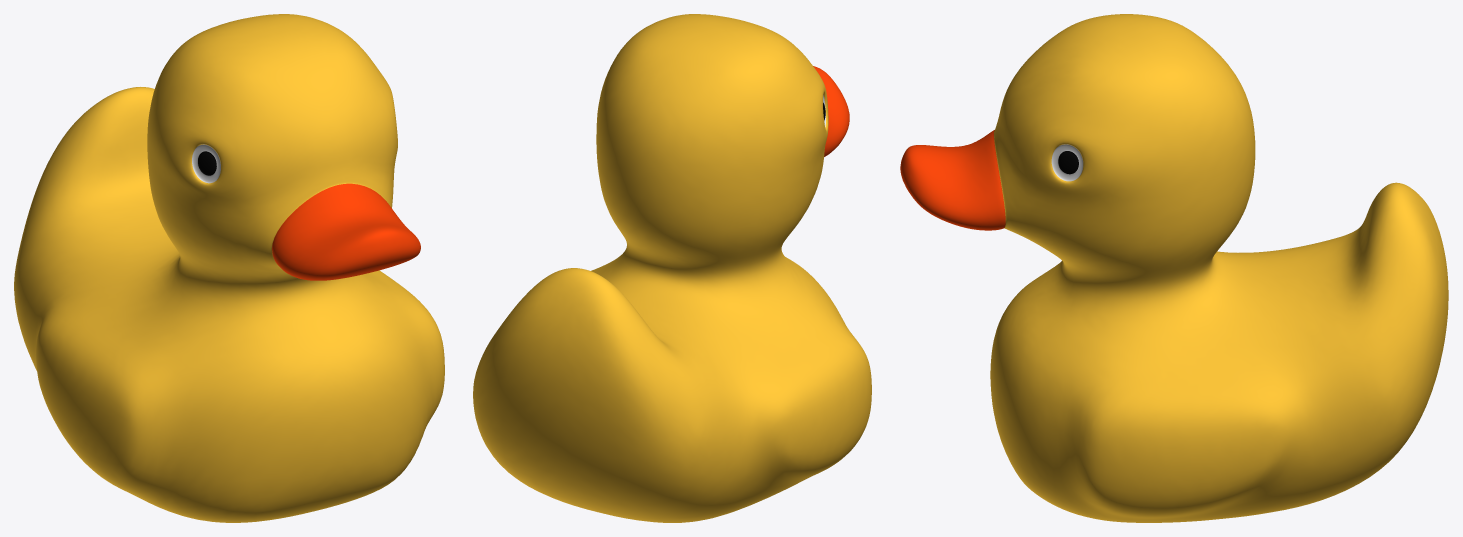
3 views of the same model, side by side, from view 1: azimuth 30°, elevation 25°; view 2: azimuth 150°, elevation 25°; view 3: azimuth 270°, elevation 25° (orthographic). The views are drawn at different scales.
Bounding box in the file's own units: 0.2369 × 0.3083 × 0.3393.
